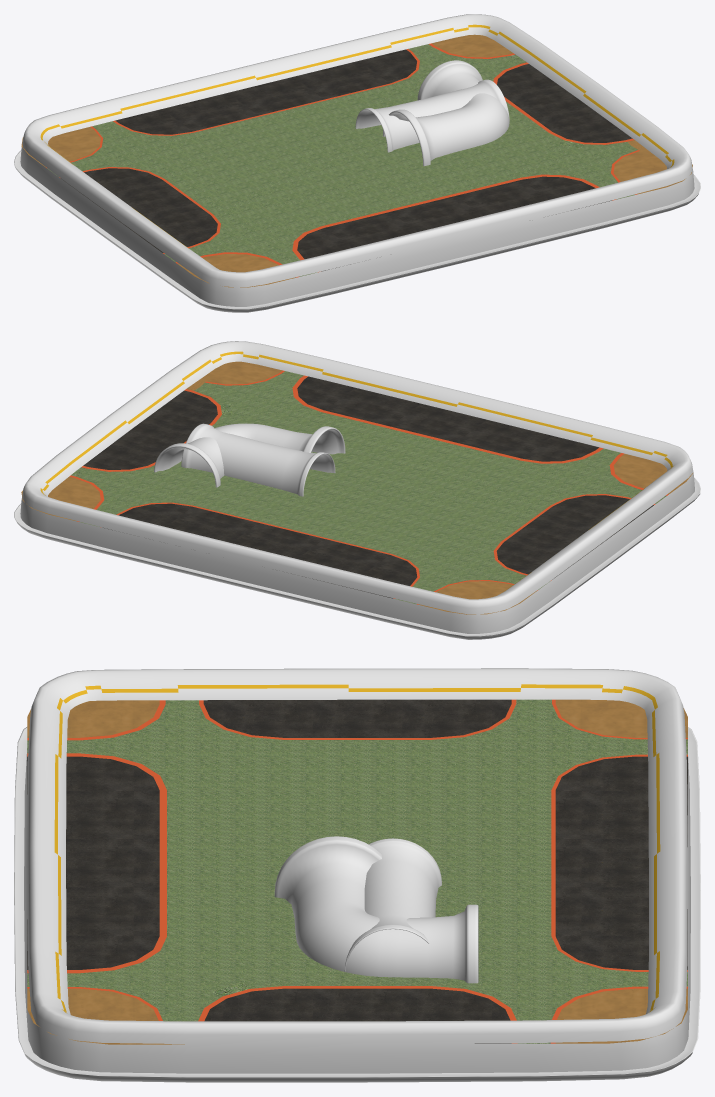
File: Arena02.fbx
3 renders of one model, top to bottom at view 1: azimuth 30°, elevation 25°; view 2: azimuth 150°, elevation 25°; view 3: azimuth 270°, elevation 25°, orthographic. The views are drawn at different scales.
Parts seen in each view (by area): view 1: Arena02, Border02, Curved_Pipe, Pipe; view 2: Arena02, Border02, Pipe, Curved_Pipe; view 3: Arena02, Border02, Curved_Pipe, Pipe.
Boxes of the visible parts, <box> form: Arena02: <box>21,34,692,287</box>; Border02: <box>14,14,700,312</box>; Curved_Pipe: <box>383,60,509,166</box>; Pipe: <box>355,79,509,152</box>; Arena02: <box>21,361,692,614</box>; Border02: <box>14,341,700,639</box>; Pipe: <box>181,423,335,496</box>; Curved_Pipe: <box>154,423,345,487</box>; Arena02: <box>27,699,687,1044</box>; Border02: <box>14,668,700,1082</box>; Curved_Pipe: <box>274,836,478,983</box>; Pipe: <box>344,838,441,971</box>.
Bounding box in the file's own units: 413 × 58.31 × 322.
